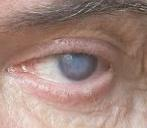eye: (58, 51, 98, 81)
